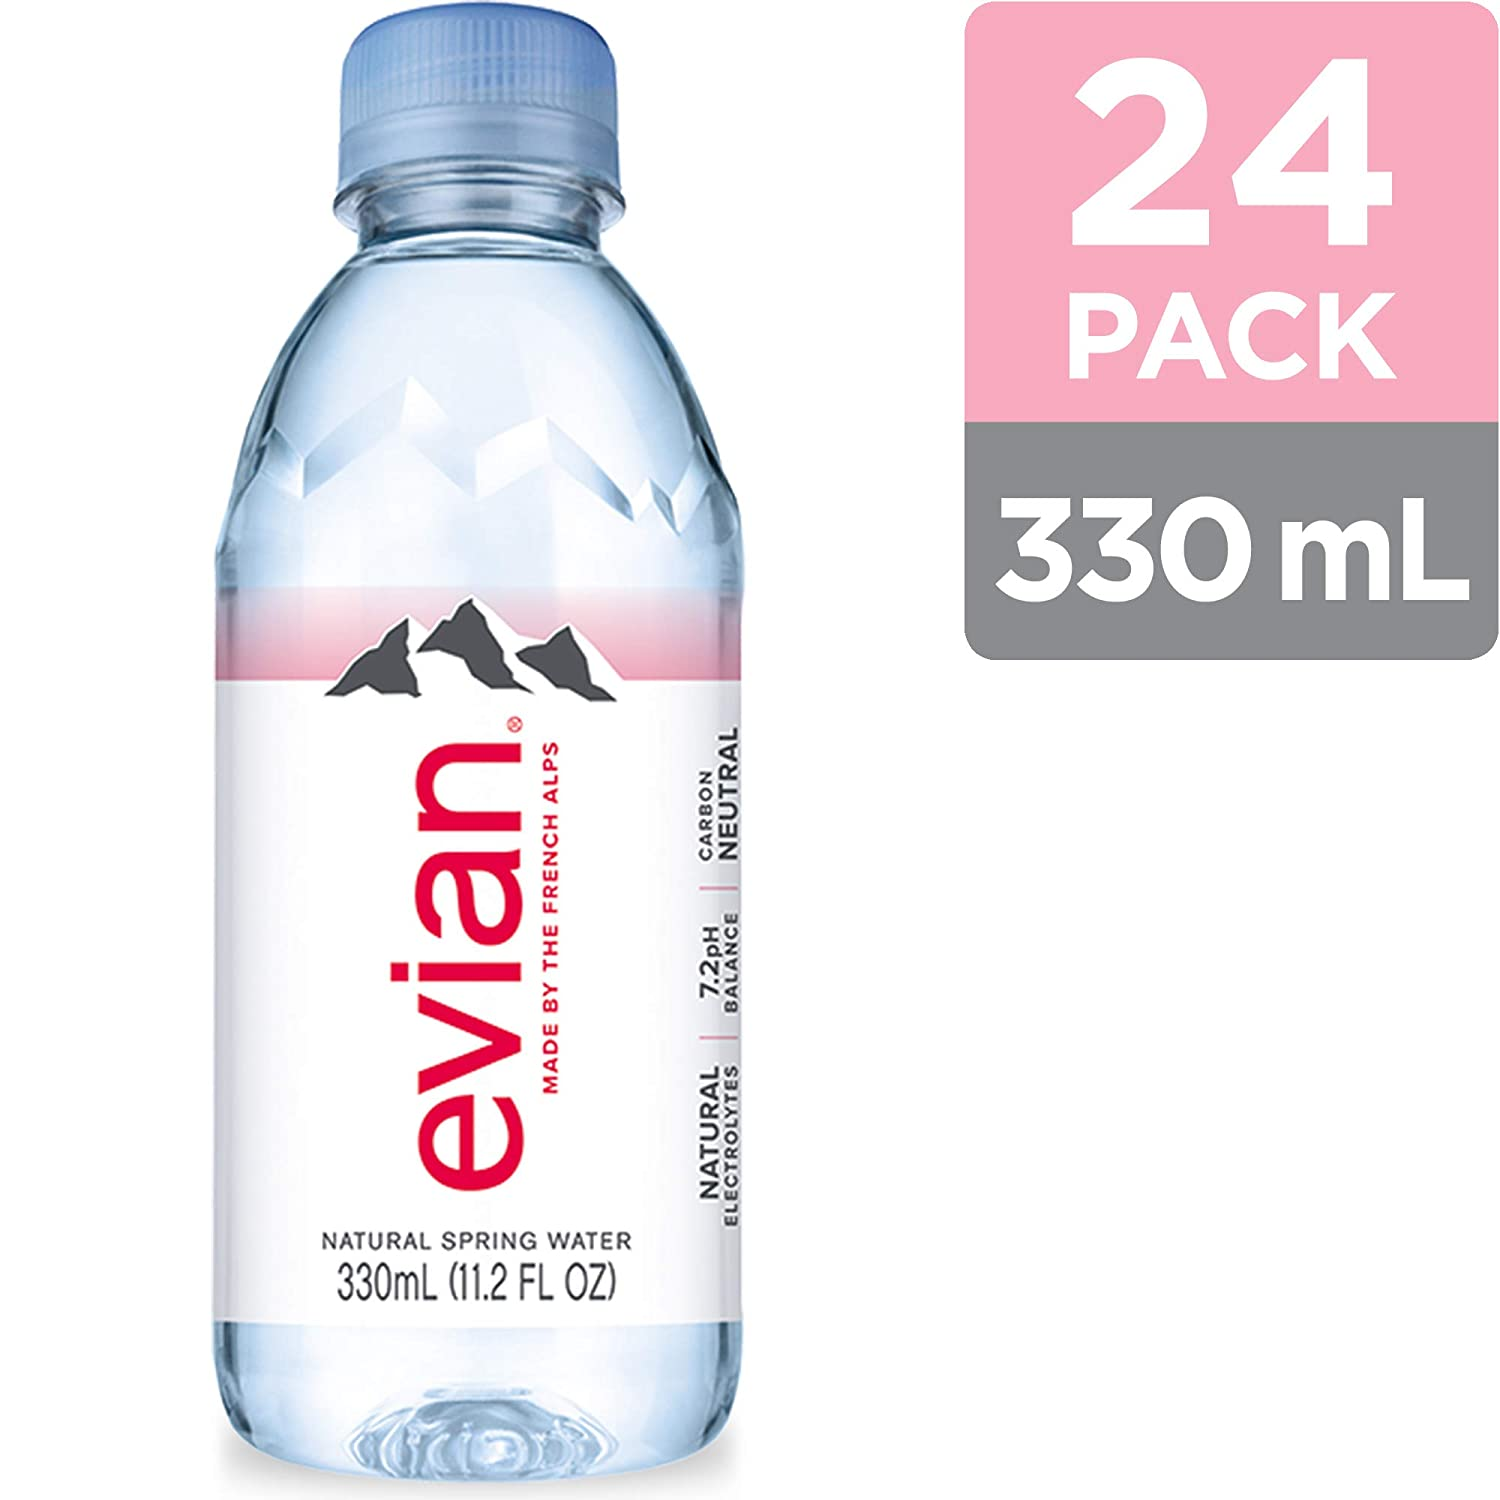PlasticBottle: (198, 12, 762, 1478)
